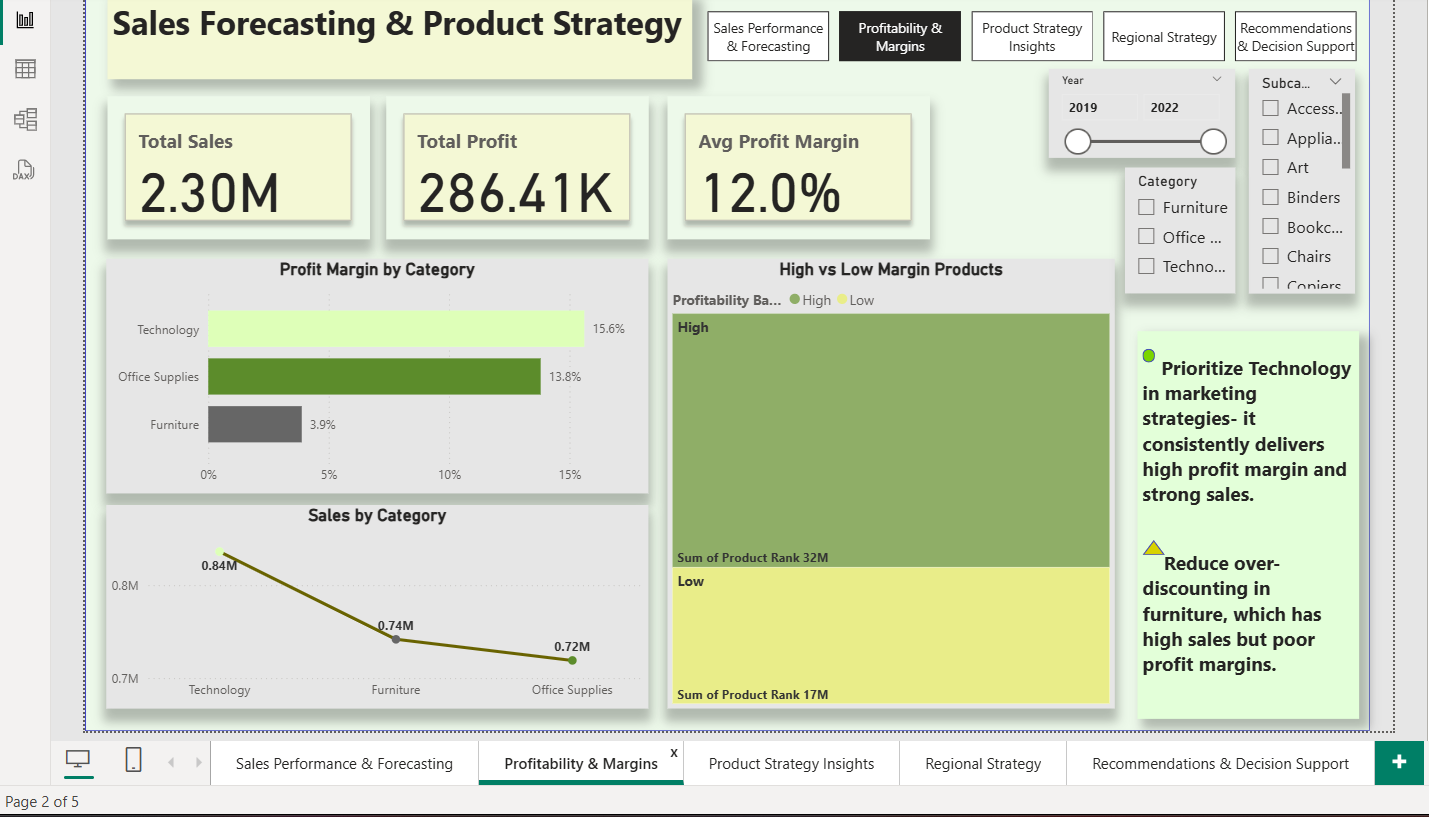

The dashboard page shown, as its layout file describes it:
{"tool":"powerbi","page":{"name":"Profitability & Margins","canvas":[1280,720],"ordinal":1},"visuals":[{"type":"shape","box":[0,0,1257.1,720.2],"z":0},{"type":"group","id":"g1","title":"Group 1","box":[1029.6,328.9,216.4,379.1],"z":0,"group":"g2"},{"type":"textbox","box":[1029.6,328.9,216.4,379.1],"z":0,"group":"g1"},{"type":"textbox","box":[22,0,572.2,82.3],"z":1000},{"type":"shape","box":[1034.5,346,12.2,13.5],"z":1000,"group":"g1"},{"type":"shape","box":[1034.5,533.1,22,14.7],"z":1000,"group":"g2"},{"type":"cardVisual","fields":{"Data":["Superstore-Cleaned_Data.Total Sales"]},"box":[22,98.8,256.6,140],"z":2000},{"type":"cardVisual","fields":{"Data":["Superstore-Cleaned_Data.Total Profit"]},"box":[295,98.8,256.6,140],"z":3000},{"type":"cardVisual","fields":{"Data":["Superstore-Cleaned_Data.Avg Profit Margin"]},"box":[569.5,98.8,256.6,140],"z":4000},{"type":"pageNavigator","box":[609.3,16.5,636.7,49.4],"z":5000},{"type":"barChart","title":" Profit Margin by Category","fields":{"Category":["Superstore-Cleaned_Data.Category"],"Y":["Superstore-Cleaned_Data.Avg Profit Margin"]},"box":[21.4,258,530.2,229.5],"z":6000},{"type":"treemap","title":"High vs Low Margin Products","fields":{"Values":["Sum(Superstore-Cleaned_Data.Profit_Margin)","Sum(Superstore-Cleaned_Data.Product Rank)"],"Group":["Superstore-Cleaned_Data.Profitability Band"]},"box":[569.8,258,437.8,440.2],"z":7000},{"type":"lineChart","title":"Sales by Category","fields":{"Category":["Superstore-Cleaned_Data.Category"],"Y":["Superstore-Cleaned_Data.Total Sales"]},"box":[21.4,498.9,530.2,199.6],"z":8000},{"type":"slicer","fields":{"Values":["Superstore-Cleaned_Data.Year"]},"box":[942.8,72.1,182.2,86.8],"z":9000},{"type":"slicer","fields":{"Values":["Superstore-Cleaned_Data.Subcategory"]},"box":[1138.5,72.1,103.9,220.1],"z":10000},{"type":"slicer","fields":{"Values":["Superstore-Cleaned_Data.Category"]},"box":[1017.4,168.8,107.6,123.5],"z":11000},{"type":"group","id":"g2","title":"Group 2","box":[1029.6,328.9,216.4,379.1],"z":12004}]}

Visuals, with their boxes on the page's 1280x720 design canvas (x1, y1, x2, y2). These are canvas units, not pixel positions in the 1429x817 screenshot, which may show the page scaled, cropped or inside an application window:
shape: [left=0, top=0, right=1257, bottom=720]
"Group 1" group: [left=1030, top=329, right=1246, bottom=708]
textbox: [left=1030, top=329, right=1246, bottom=708]
textbox: [left=22, top=0, right=594, bottom=82]
shape: [left=1034, top=346, right=1047, bottom=360]
shape: [left=1034, top=533, right=1056, bottom=548]
cardVisual - Superstore-Cleaned_Data.Total Sales: [left=22, top=99, right=279, bottom=239]
cardVisual - Superstore-Cleaned_Data.Total Profit: [left=295, top=99, right=552, bottom=239]
cardVisual - Superstore-Cleaned_Data.Avg Profit Margin: [left=570, top=99, right=826, bottom=239]
pageNavigator: [left=609, top=16, right=1246, bottom=66]
" Profit Margin by Category" barChart: [left=21, top=258, right=552, bottom=488]
"High vs Low Margin Products" treemap: [left=570, top=258, right=1008, bottom=698]
"Sales by Category" lineChart: [left=21, top=499, right=552, bottom=698]
slicer - Superstore-Cleaned_Data.Year: [left=943, top=72, right=1125, bottom=159]
slicer - Superstore-Cleaned_Data.Subcategory: [left=1138, top=72, right=1242, bottom=292]
slicer - Superstore-Cleaned_Data.Category: [left=1017, top=169, right=1125, bottom=292]
"Group 2" group: [left=1030, top=329, right=1246, bottom=708]
